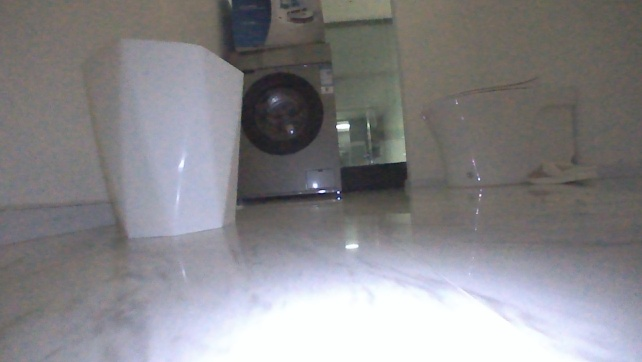slipper: (528, 157, 609, 200)
toilet: (410, 74, 581, 194)
trash_can: (80, 31, 253, 250)
washing_machine: (220, 39, 351, 206)
